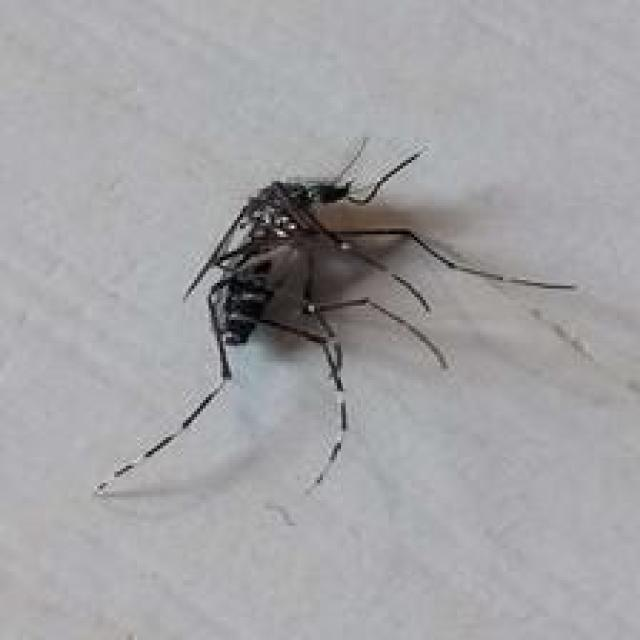Aedes albopictus: (97, 134, 580, 497)
